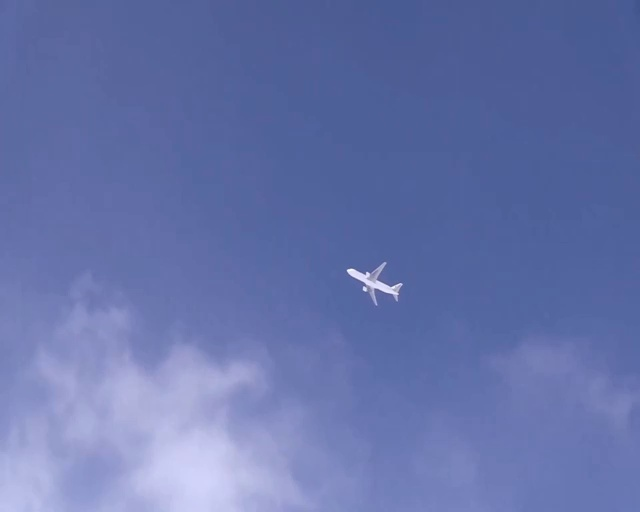AIRPLANE: (346, 260, 404, 305)
